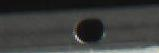holes: (73, 17, 107, 45)
